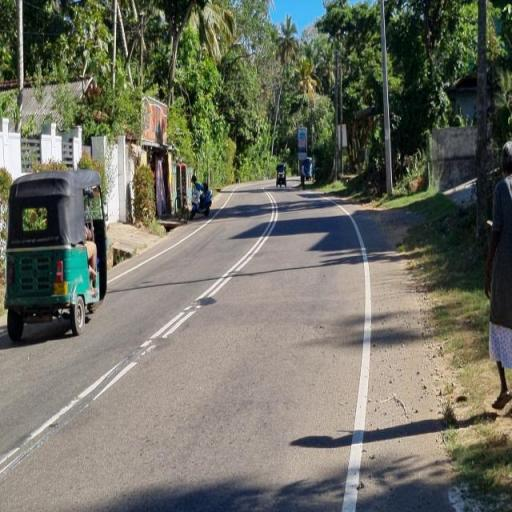double_white_line: (140, 190, 277, 354)
